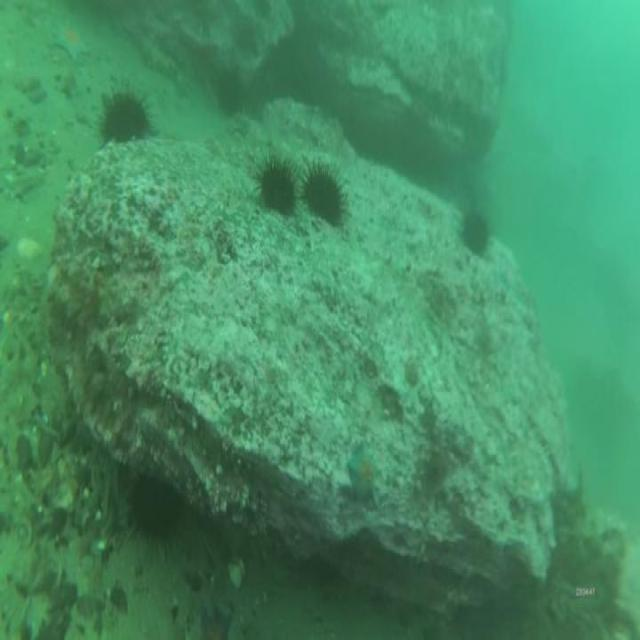echinus: (130, 479, 180, 536), (102, 90, 145, 142), (260, 163, 296, 212), (305, 171, 340, 221), (460, 210, 488, 253), (217, 64, 239, 115)
starfish: (350, 442, 380, 501), (52, 19, 92, 62)
